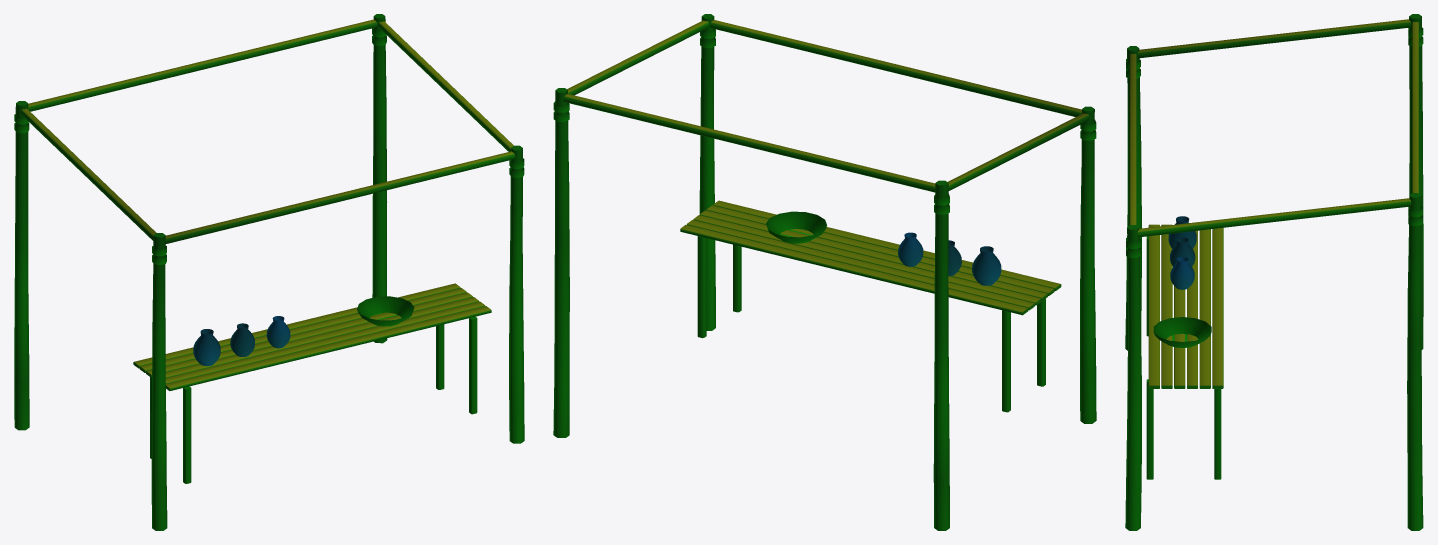
Rendered from market_stall.glb.
The picture shows the model from 3 angles, left to right: view 1: azimuth 30°, elevation 25°; view 2: azimuth 150°, elevation 25°; view 3: azimuth 270°, elevation 25°; orthographic projection. The views are drawn at different scales.
Visible parts, largest first — view 1: market_stall; view 2: market_stall; view 3: market_stall.
Boxes of the visible parts, bbox=[...] form: market_stall: bbox=[14, 14, 524, 530]; market_stall: bbox=[553, 14, 1096, 530]; market_stall: bbox=[1125, 14, 1423, 530].
Size of what is drawn, in the model's own units: 3.11 by 2.6 by 2.11.
